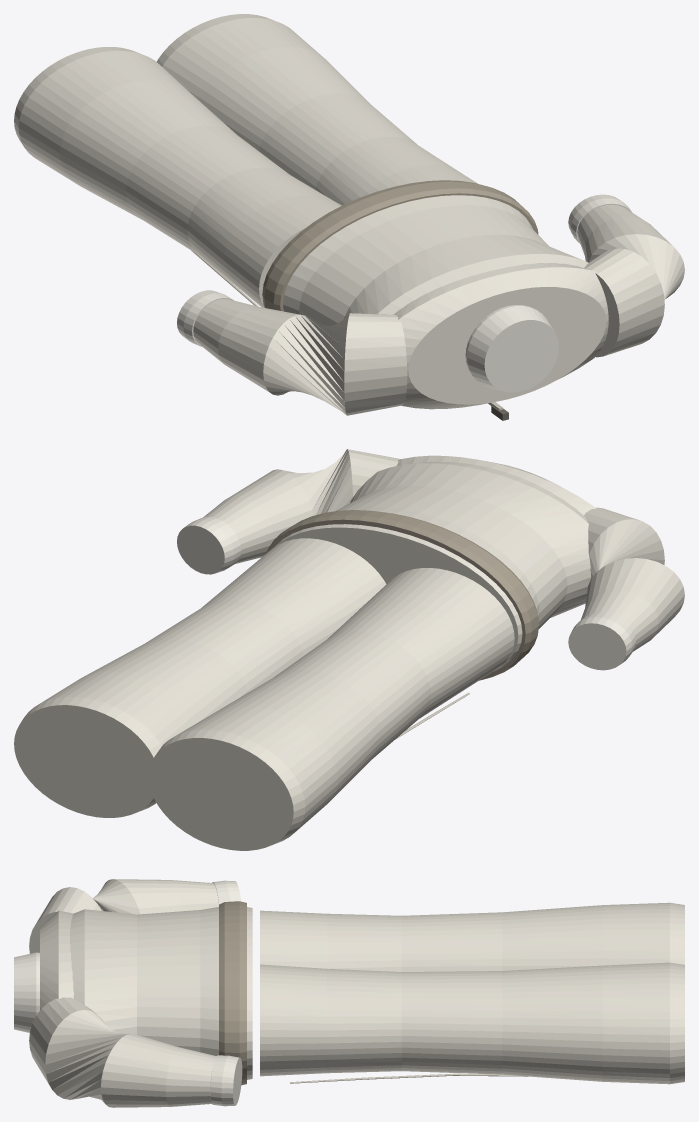
File: costume.glb
The picture shows the model from 3 angles, top to bottom: view 1: azimuth 30°, elevation 25°; view 2: azimuth 150°, elevation 25°; view 3: azimuth 270°, elevation 25°; orthographic projection. The views are drawn at different scales.
Visible parts, largest first — view 1: left wide trouser leg, right wide trouser leg, Cropped blouse body, Shoulder yoke, left sleeve, right sleeve, Stand collar, Taupe waist belt, left cuff, right cuff; view 2: left wide trouser leg, right wide trouser leg, Cropped blouse body, left sleeve, right sleeve, Taupe waist belt, left cuff, right cuff, Shoulder yoke; view 3: right wide trouser leg, left wide trouser leg, Cropped blouse body, right sleeve, left sleeve, Taupe waist belt, Shoulder yoke, Stand collar, right cuff, Trouser fold 0.29, left cuff.
Boxes of the visible parts, x1=… form: left wide trouser leg: x1=14, y1=47, x2=341, y2=307; right wide trouser leg: x1=156, y1=14, x2=477, y2=205; Cropped blouse body: x1=283, y1=195, x2=588, y2=325; Shoulder yoke: x1=394, y1=263, x2=608, y2=409; left sleeve: x1=193, y1=298, x2=407, y2=415; right sleeve: x1=577, y1=204, x2=684, y2=357; Stand collar: x1=465, y1=305, x2=558, y2=392; Taupe waist belt: x1=262, y1=180, x2=538, y2=311; left cuff: x1=177, y1=290, x2=233, y2=346; right cuff: x1=568, y1=194, x2=632, y2=243; left wide trouser leg: x1=148, y1=568, x2=514, y2=850; right wide trouser leg: x1=14, y1=538, x2=386, y2=817; Cropped blouse body: x1=274, y1=462, x2=590, y2=671; left sleeve: x1=581, y1=507, x2=684, y2=651; right sleeve: x1=203, y1=449, x2=400, y2=563; Taupe waist belt: x1=266, y1=510, x2=538, y2=680; left cuff: x1=568, y1=613, x2=635, y2=670; right cuff: x1=177, y1=517, x2=241, y2=574; Shoulder yoke: x1=396, y1=455, x2=595, y2=514; right wide trouser leg: x1=260, y1=962, x2=684, y2=1084; left wide trouser leg: x1=260, y1=902, x2=684, y2=971; Cropped blouse body: x1=70, y1=907, x2=252, y2=1079; right sleeve: x1=29, y1=997, x2=216, y2=1107; left sleeve: x1=29, y1=879, x2=218, y2=953; Taupe waist belt: x1=219, y1=901, x2=246, y2=1085; Shoulder yoke: x1=40, y1=910, x2=73, y2=1010; Stand collar: x1=14, y1=952, x2=39, y2=1032; right cuff: x1=210, y1=1055, x2=242, y2=1106; Trouser fold 0.29: x1=290, y1=1073, x2=527, y2=1083; left cuff: x1=212, y1=880, x2=241, y2=904.
Bounding box in the file's own units: 1.27 × 0.453 × 1.8.
